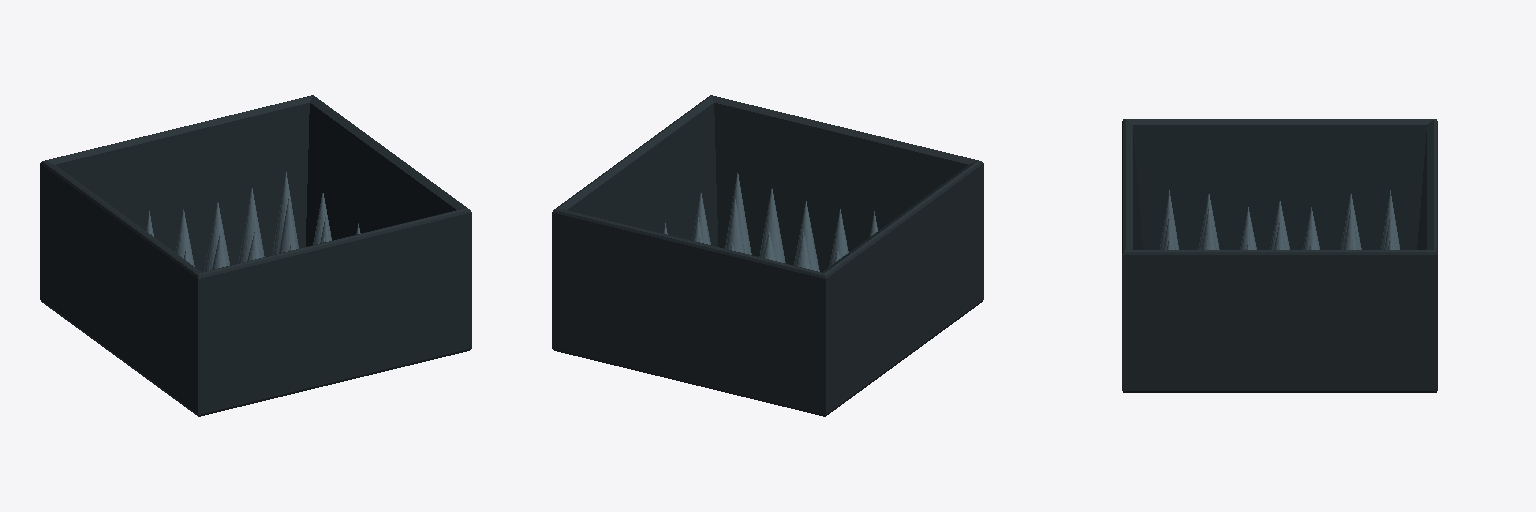
The model's file is tileSpikes_large.obj.
The picture shows the model from 3 angles: view 1: azimuth 30°, elevation 25°; view 2: azimuth 150°, elevation 25°; view 3: azimuth 270°, elevation 25°; orthographic projection.
Visible parts, largest first — view 1: tileSpikes_large_Cube.3231; view 2: tileSpikes_large_Cube.3231; view 3: tileSpikes_large_Cube.3231.
Part boxes in pixels (left/top/right/bottom): tileSpikes_large_Cube.3231: left=40, top=95, right=471, bottom=416; tileSpikes_large_Cube.3231: left=552, top=95, right=983, bottom=416; tileSpikes_large_Cube.3231: left=1122, top=119, right=1437, bottom=392.
Size of the model in its own units: 4 by 2 by 4.